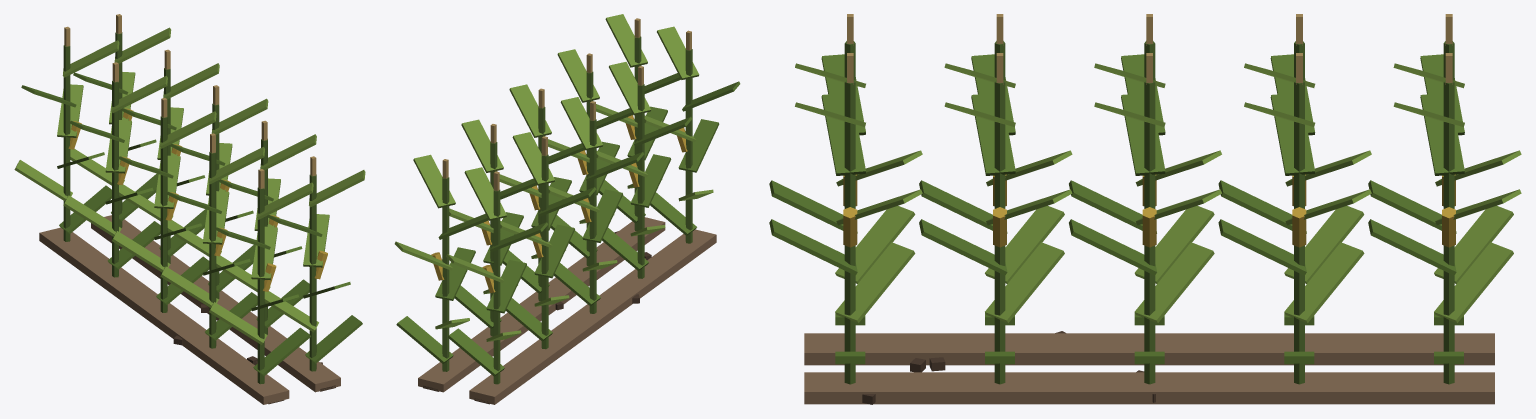
Rendered from crop_corn_4.glb.
The picture shows the model from 3 angles, left to right: view 1: azimuth 30°, elevation 25°; view 2: azimuth 150°, elevation 25°; view 3: azimuth 270°, elevation 25°; orthographic projection. The views are drawn at different scales.
Visible parts, largest first — view 1: room_crop_corn_4; view 2: room_crop_corn_4; view 3: room_crop_corn_4.
Boxes of the visible parts, x1=… form: room_crop_corn_4: x1=14, y1=14, x2=365, y2=404; room_crop_corn_4: x1=394, y1=14, x2=740, y2=404; room_crop_corn_4: x1=769, y1=14, x2=1521, y2=404.
Bounding box in the file's own units: 1.1 × 1.63 × 3.27.
